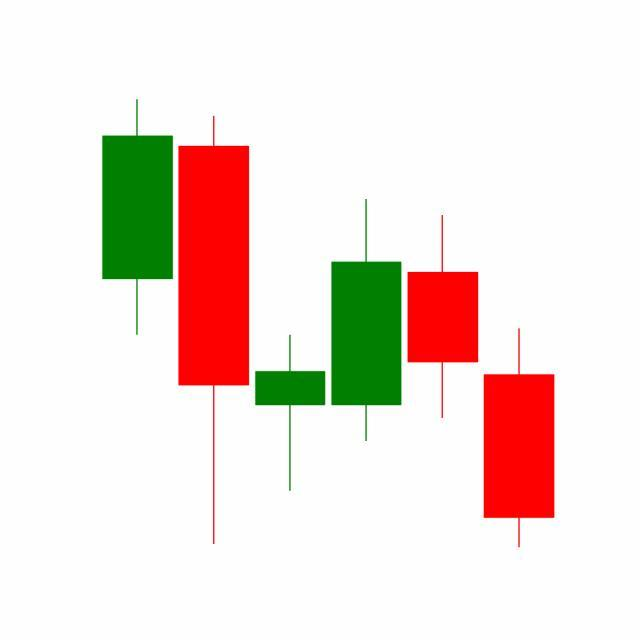Three Inside Up-Down: (326, 194, 555, 548)
